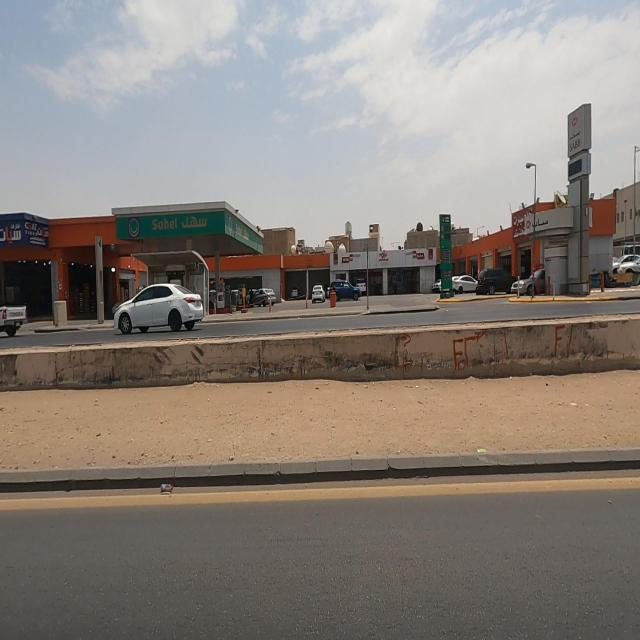Graffiti: (452, 330, 485, 373), (392, 335, 415, 372), (553, 325, 574, 359)
